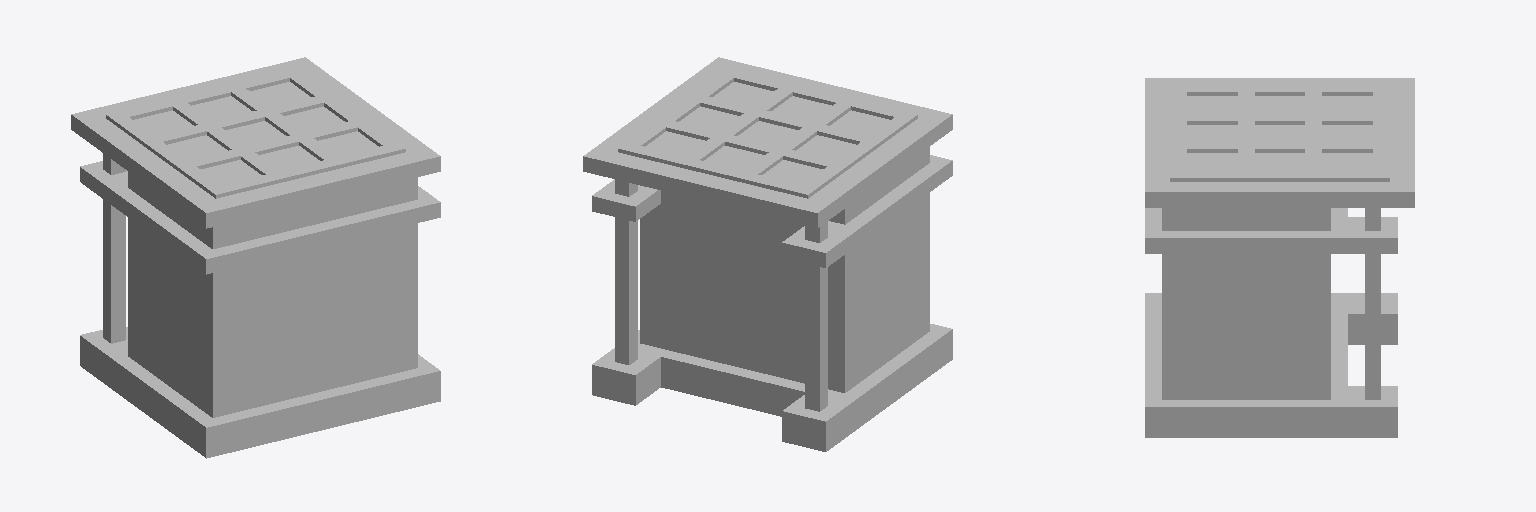
Rendered from station_workbench_inventory.obj.
3 renders of one model, left to right at view 1: azimuth 30°, elevation 25°; view 2: azimuth 150°, elevation 25°; view 3: azimuth 270°, elevation 25°, orthographic.
Parts seen in each view (by area): view 1: DESK_SINGLE_MAIN.006, WORKBENCH_MAIN.005; view 2: DESK_SINGLE_MAIN.006, WORKBENCH_MAIN.005; view 3: DESK_SINGLE_MAIN.006, WORKBENCH_MAIN.005.
Boxes of the visible parts, x1=… form: DESK_SINGLE_MAIN.006: x1=71, y1=57, x2=440, y2=458; WORKBENCH_MAIN.005: x1=106, y1=68, x2=405, y2=198; DESK_SINGLE_MAIN.006: x1=583, y1=57, x2=952, y2=451; WORKBENCH_MAIN.005: x1=618, y1=68, x2=917, y2=198; DESK_SINGLE_MAIN.006: x1=1145, y1=78, x2=1414, y2=437; WORKBENCH_MAIN.005: x1=1170, y1=85, x2=1389, y2=181.
Size of the model in its own units: 1 by 1.02 by 1.